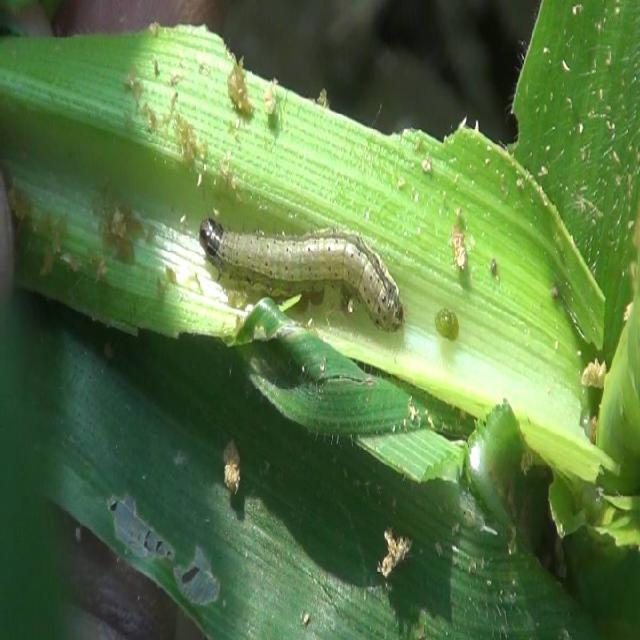cornborer-Larva-: (186, 188, 415, 354)
